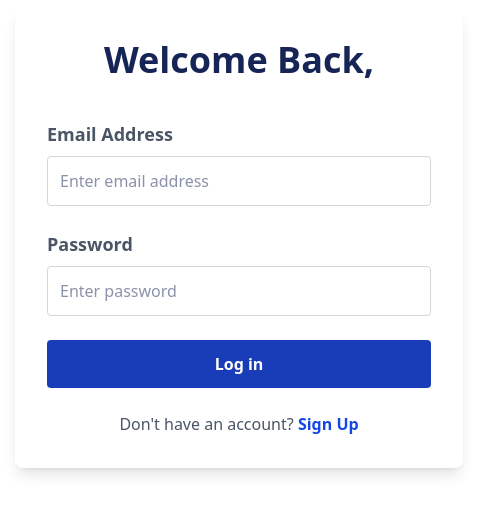
Test: Basic Bookmark Functionality Tests › Error Handling › should handle invalid credentials
Try with obviously invalid credentials
Type "invalid@example.com" into the field named "email".
click(239, 181); type("invalid@example.com")  # box [47,156,431,206]
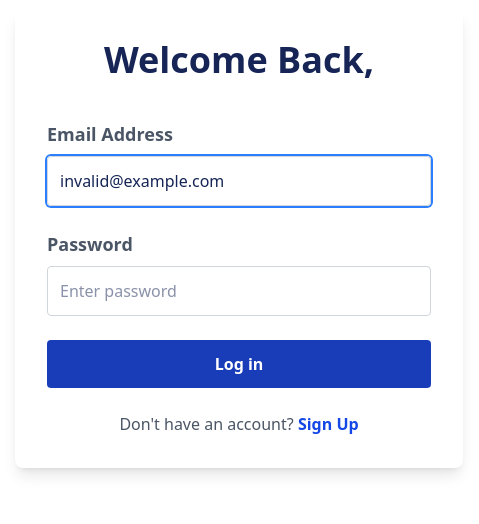
Type "wrongpassword" into the password field named "password".
click(239, 291); type("wrongpassword")  # box [47,266,431,316]
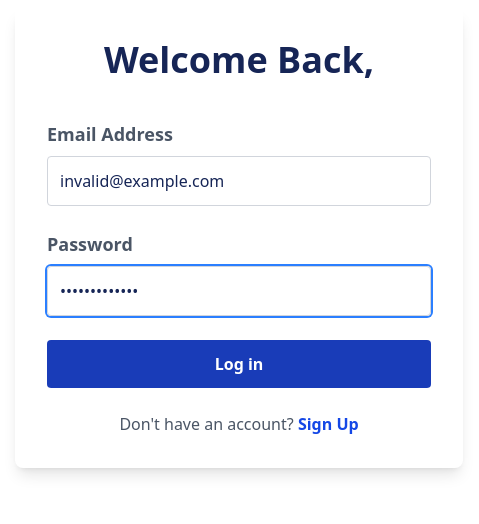
Click the submit button.
click(239, 364)  # box [47,340,431,388]
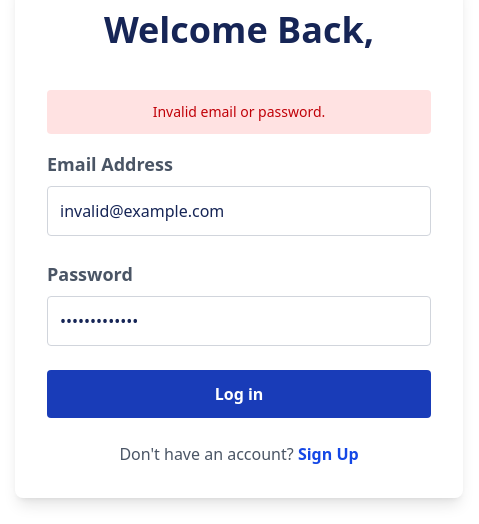
Expected: the text "Invalid email or password." is shown, [47,90,431,134]
